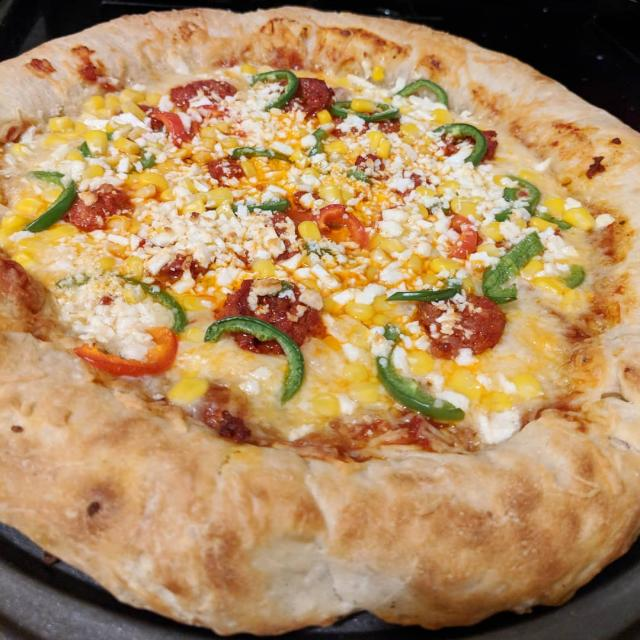pepperoni: (205, 275, 333, 358), (406, 283, 509, 363), (268, 66, 338, 126), (64, 182, 137, 232), (161, 78, 239, 119), (264, 203, 305, 260), (197, 146, 244, 186), (472, 124, 502, 163)
pizza: (0, 8, 638, 634)
